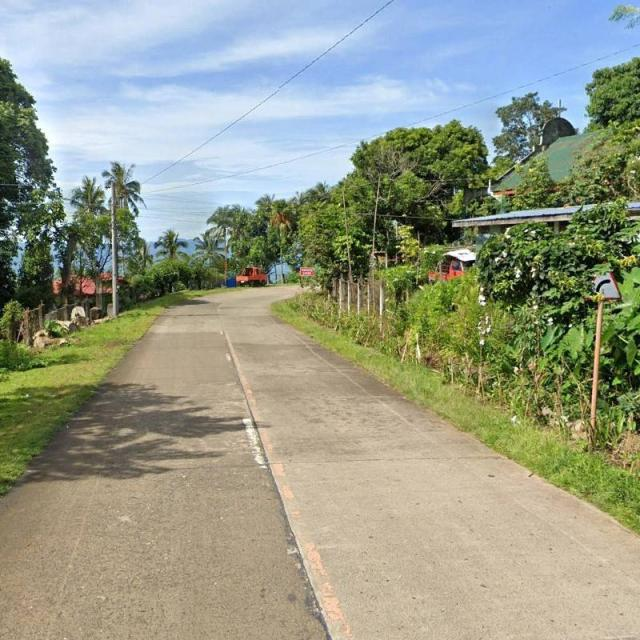warn_right_curve: (580, 260, 622, 300)
